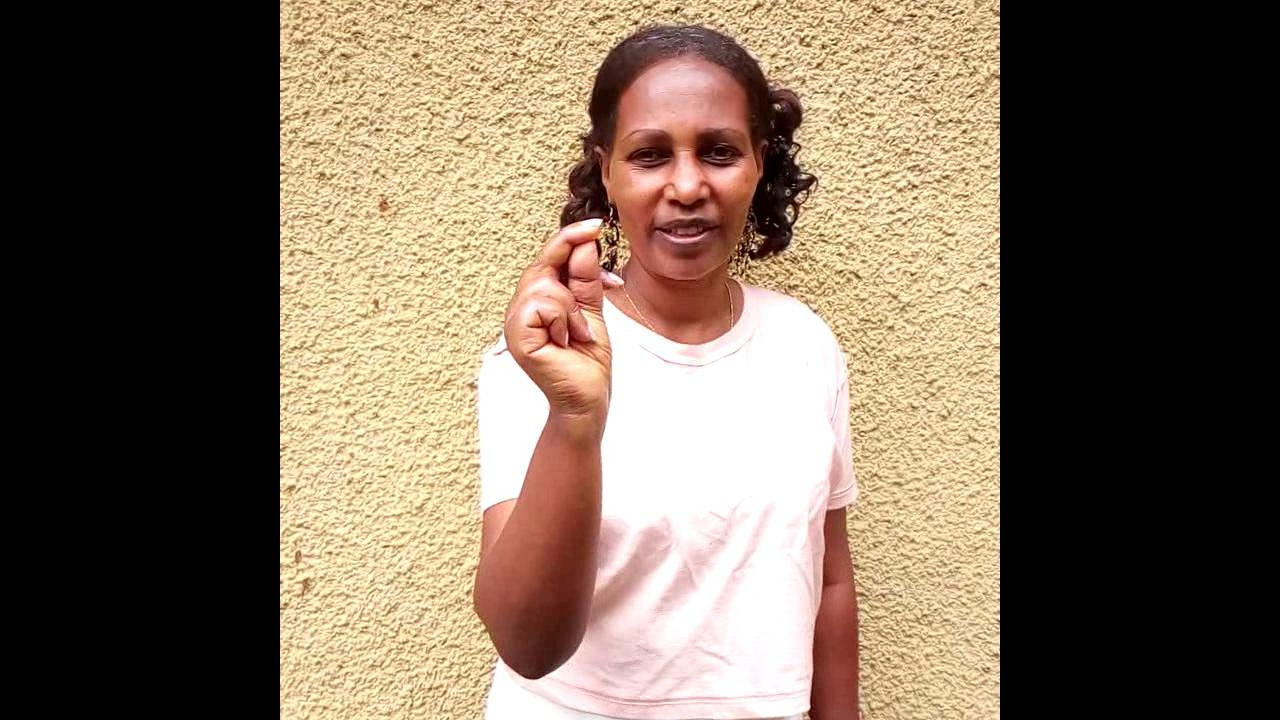CHE: (500, 221, 626, 529)
